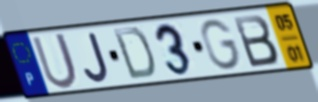3: (154, 20, 198, 79)
B: (231, 13, 281, 69)
D: (110, 26, 159, 82)
G: (199, 18, 243, 72)
J: (82, 31, 112, 84)
U: (30, 30, 80, 91)
